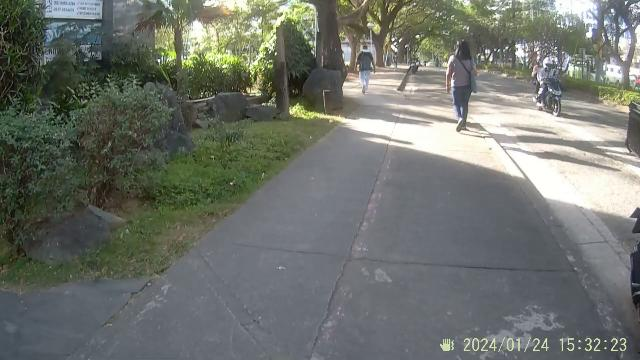lamp_post: (364, 18, 376, 50)
motorcycle: (526, 52, 570, 118)
